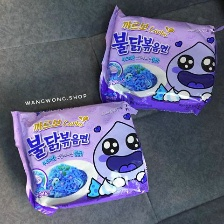snack: (3, 94, 152, 219), (91, 0, 224, 119)
